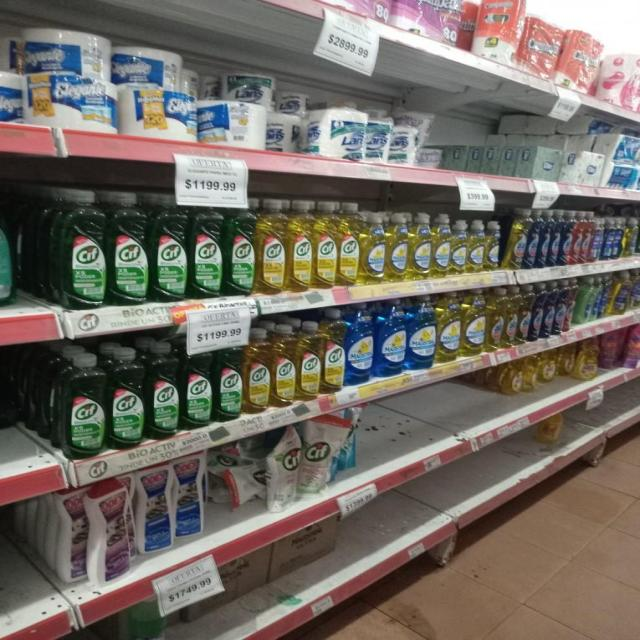ala_conc_amarillo: (507, 209, 526, 270), (486, 287, 503, 352), (503, 286, 518, 348), (518, 284, 531, 345)
ala_conc_azul: (526, 208, 539, 269), (561, 210, 573, 266), (531, 284, 542, 342), (542, 282, 553, 339), (539, 209, 549, 268), (550, 210, 560, 266)
ala_conc_rojo: (573, 211, 585, 264)
cif_conc_bot_amarilla: (257, 198, 286, 295), (244, 328, 270, 414), (288, 199, 312, 292), (314, 200, 337, 290), (297, 319, 321, 400), (272, 323, 295, 407), (338, 202, 360, 287), (323, 308, 345, 393)
cif_conc_botella_verde: (50, 188, 106, 309), (56, 352, 106, 458), (108, 191, 149, 305), (150, 194, 188, 303), (108, 347, 145, 449), (190, 198, 223, 300), (146, 342, 179, 439), (225, 199, 255, 297), (181, 338, 212, 429), (214, 336, 243, 421), (1, 178, 16, 310)
magistral_con_amarillo: (361, 211, 385, 285), (437, 291, 461, 363), (462, 288, 485, 357), (409, 212, 432, 281), (386, 211, 408, 283), (432, 213, 451, 278), (452, 218, 468, 275), (485, 220, 502, 272), (468, 219, 484, 274)
magistral_con_azul: (376, 298, 406, 378), (346, 303, 373, 386), (408, 295, 435, 370)
